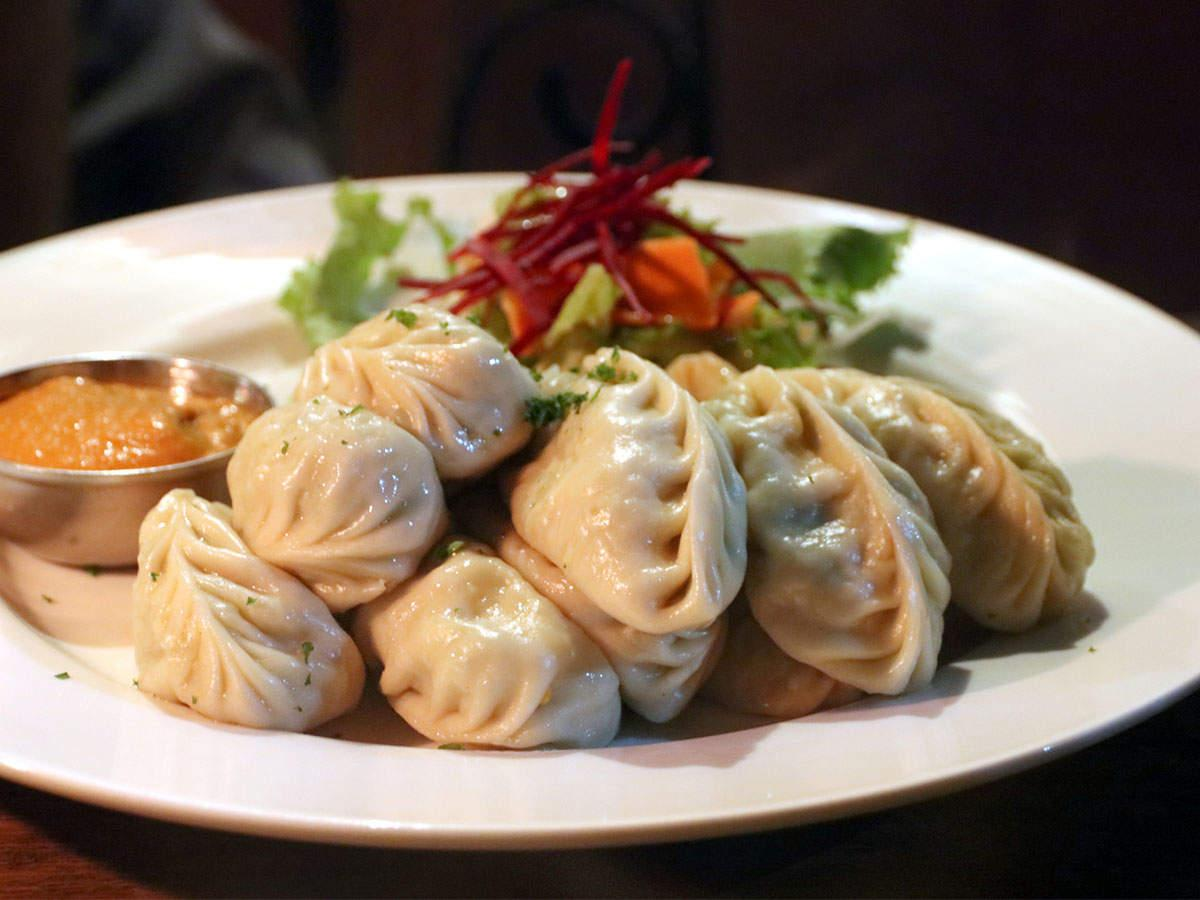momos: (670, 354, 949, 694), (784, 368, 1095, 629), (511, 349, 748, 633), (134, 490, 366, 730), (354, 546, 621, 748), (295, 305, 539, 478)
